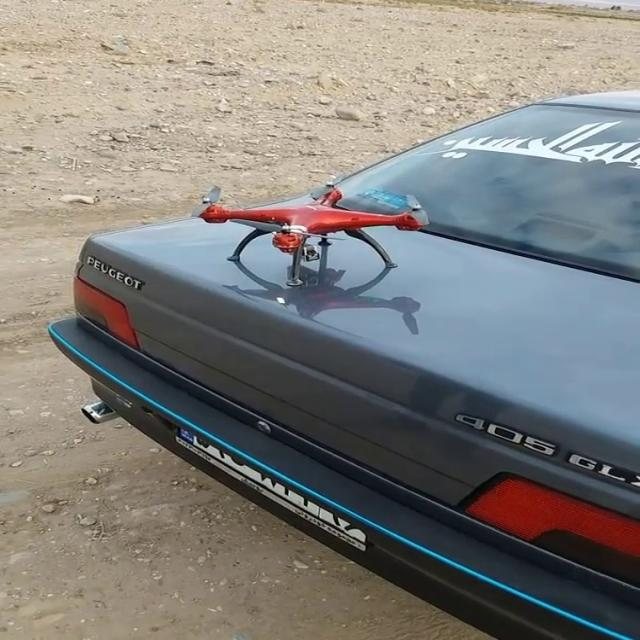drone: (187, 170, 426, 286)
